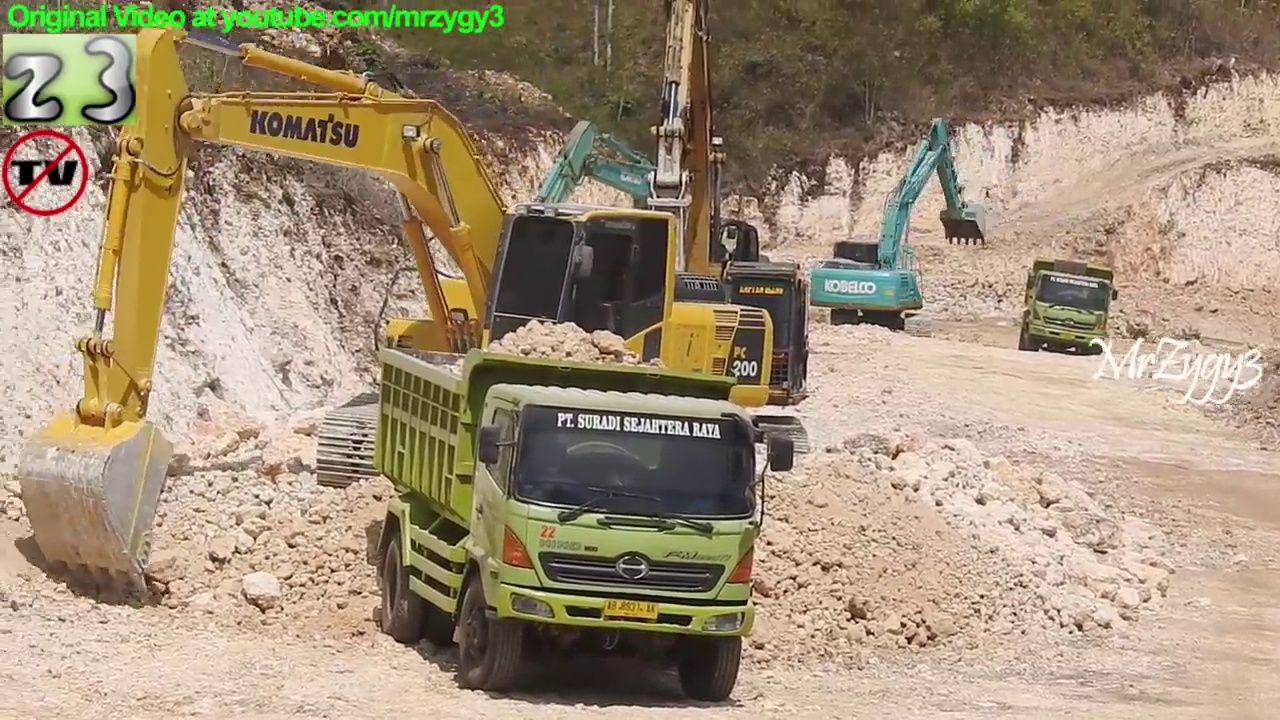excavator: (15, 16, 777, 583), (417, 3, 817, 481), (805, 114, 991, 333)
truck: (371, 340, 798, 706), (1016, 258, 1119, 361)
